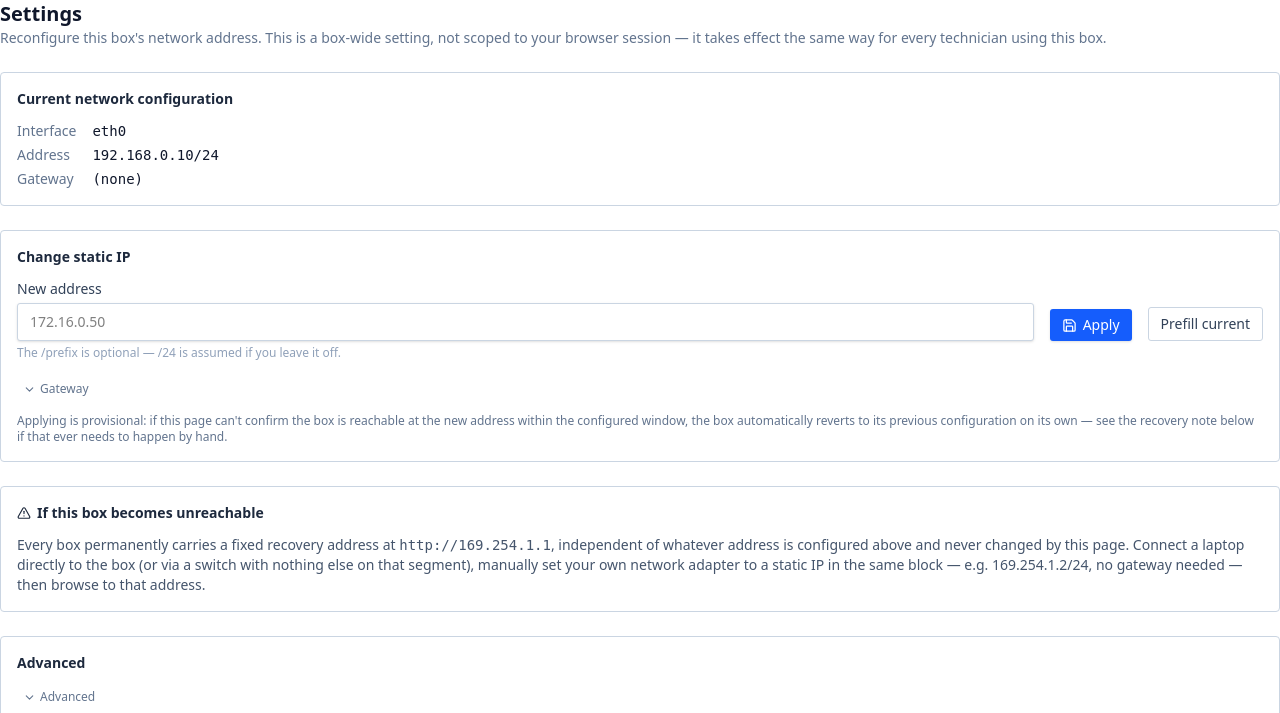
Test: SettingsView advanced section › clears the logs and reports how many files and how much was freed
Click the button "Advanced": x=59, y=697 [17,685,101,709]
(page scrolled)
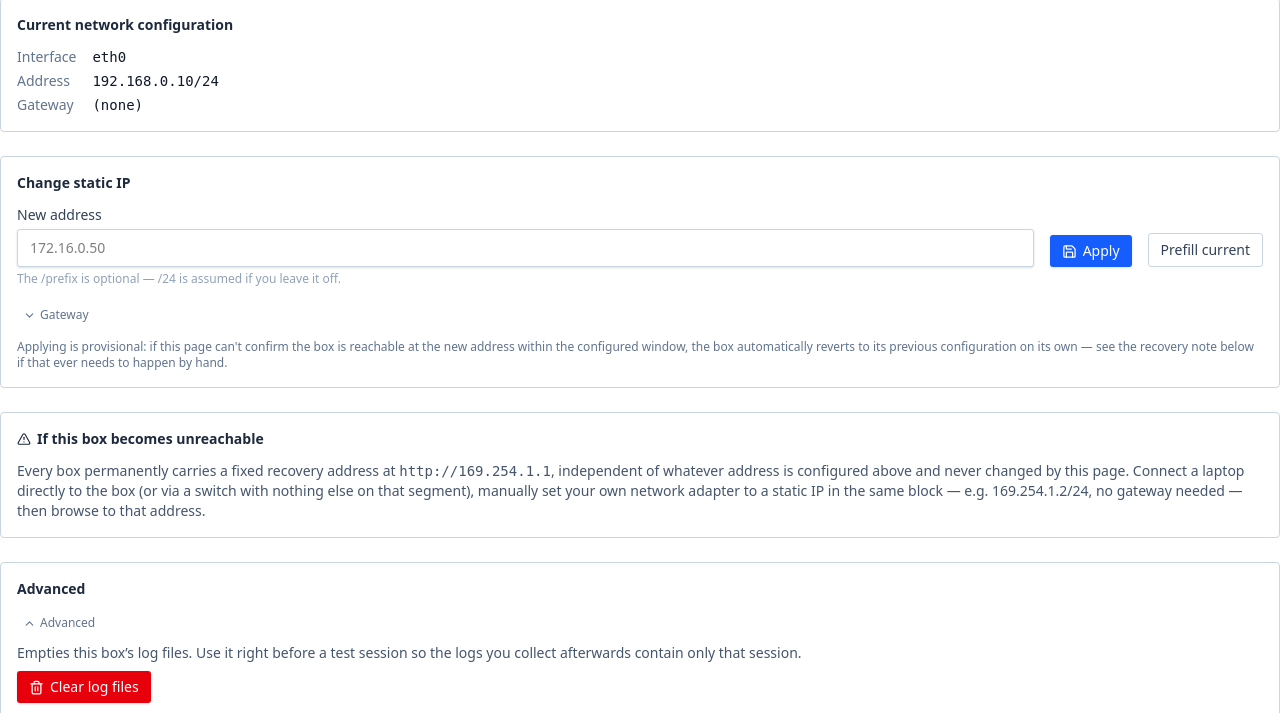
Result: the button "Clear log files" is shown
Click the button "Clear log files": x=84, y=687 [17,671,151,703]
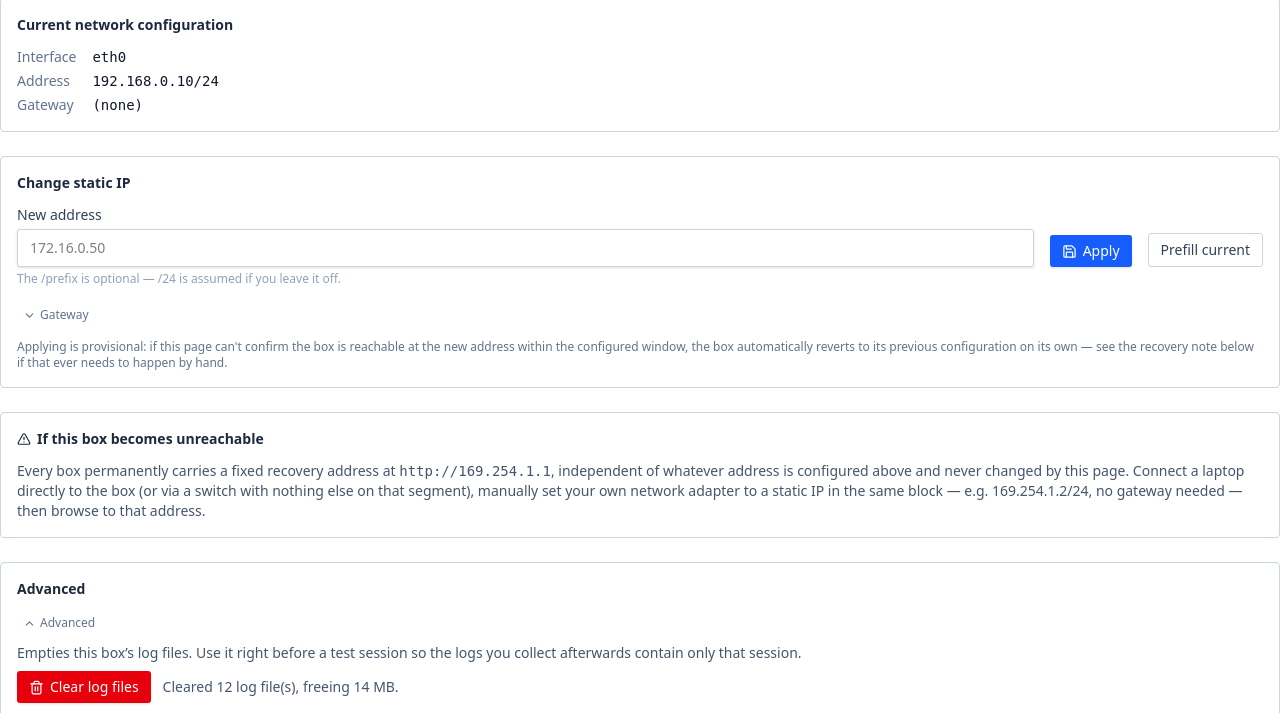
Result: the text "12" is shown at [163,677,399,696]
Result: the text "14 MB" is shown at [163,677,399,696]
